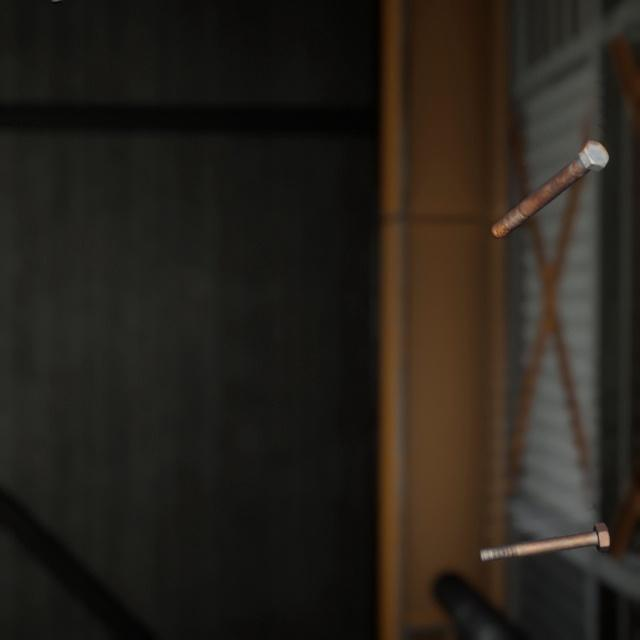bolt: (486, 120, 613, 229), (473, 495, 614, 544)
